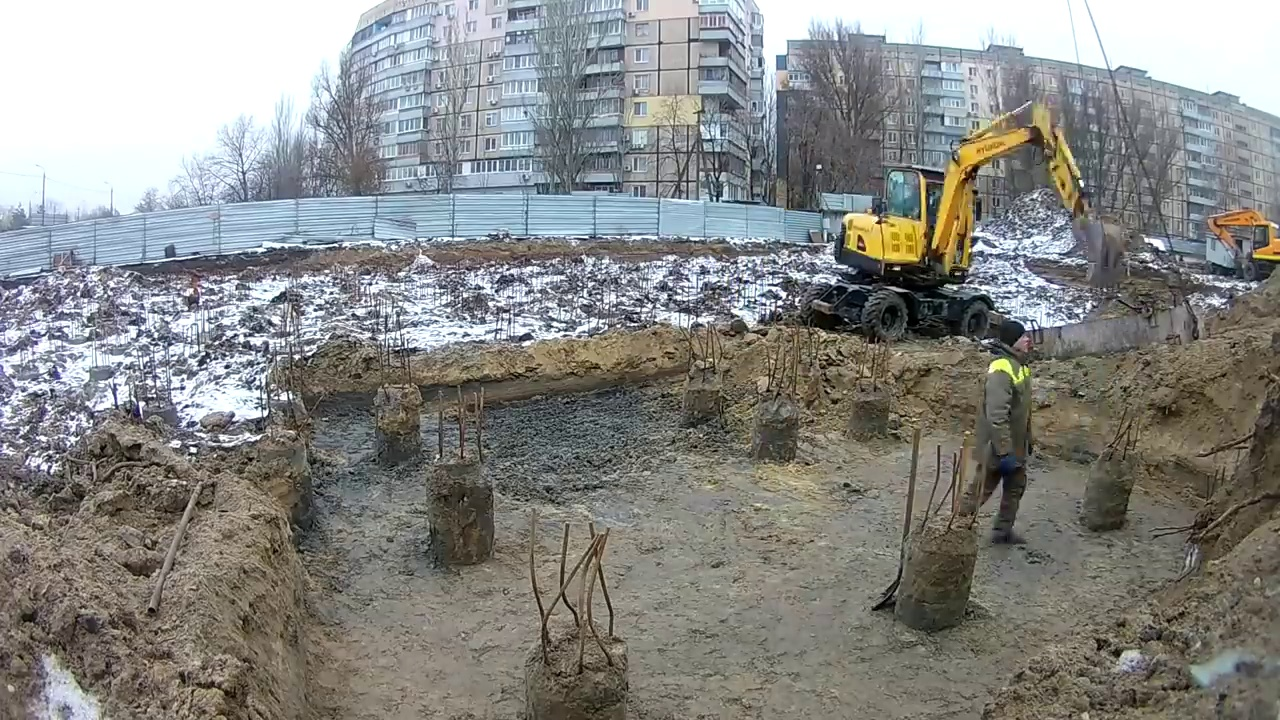helmet-off: (995, 322, 1029, 357)
person: (960, 322, 1036, 549)
